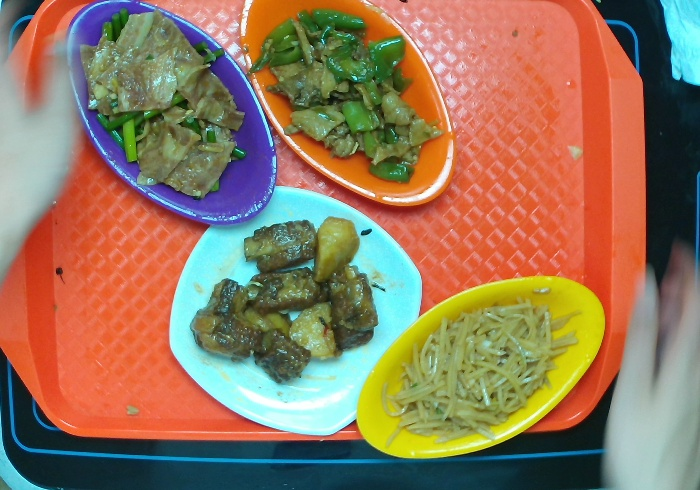RJxy-Fen_Hong_Tuo_Yuan: (57, 1, 281, 234)
RJxy-Huang_Se_Tuo_Yuan: (351, 269, 609, 460)
RJxy-Ju_Huang_Tuo_Yuan: (234, 1, 457, 216)
RJxy-Si_Fang_Die: (167, 186, 429, 444)
